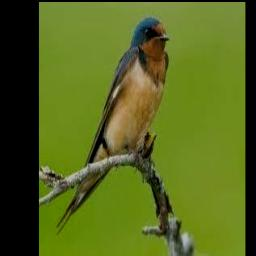Swallow: (55, 16, 169, 235)
